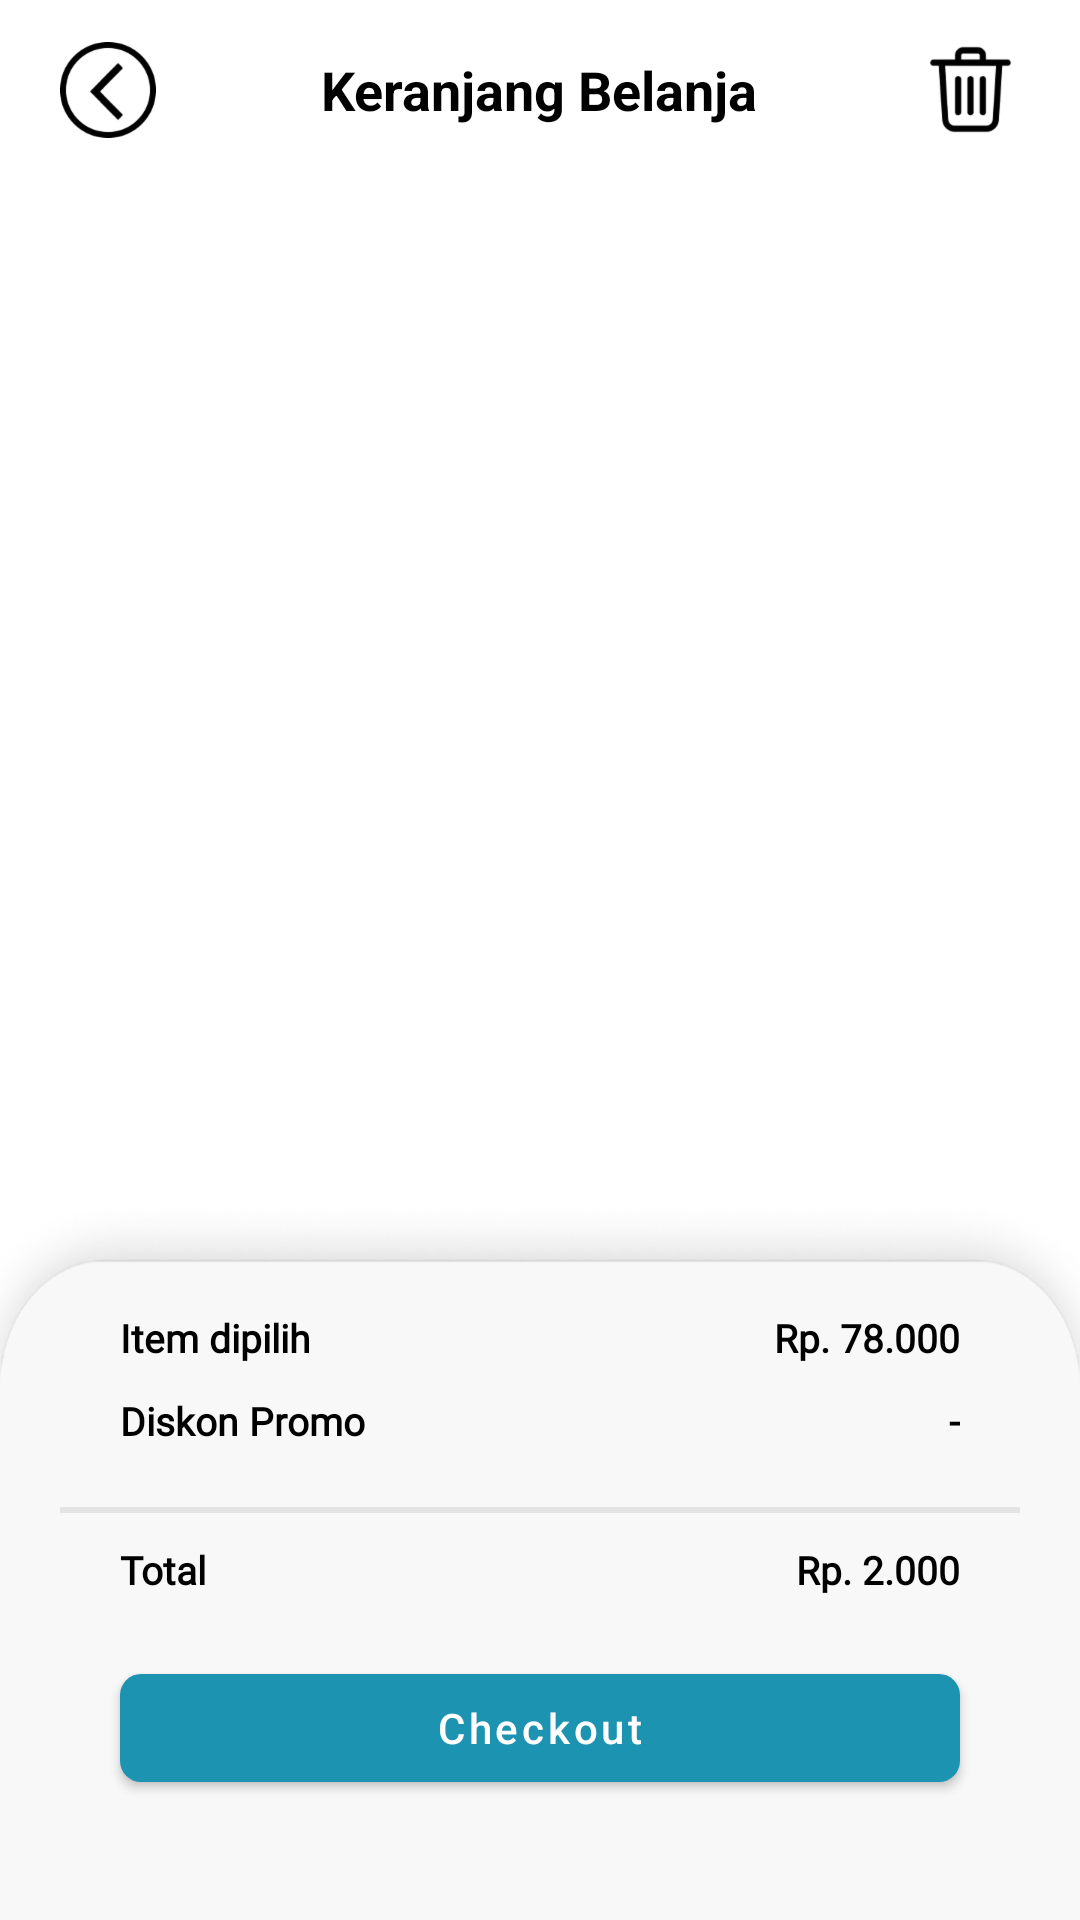

Locate icon controls on the screen. Image size 1080px x 1920px, boxes as [x1=x1, y1=y1, x2=x2, y2=y2].
back: [x1=60, y1=42, x2=156, y2=138]
btnhapus: [x1=930, y1=47, x2=1011, y2=132]
